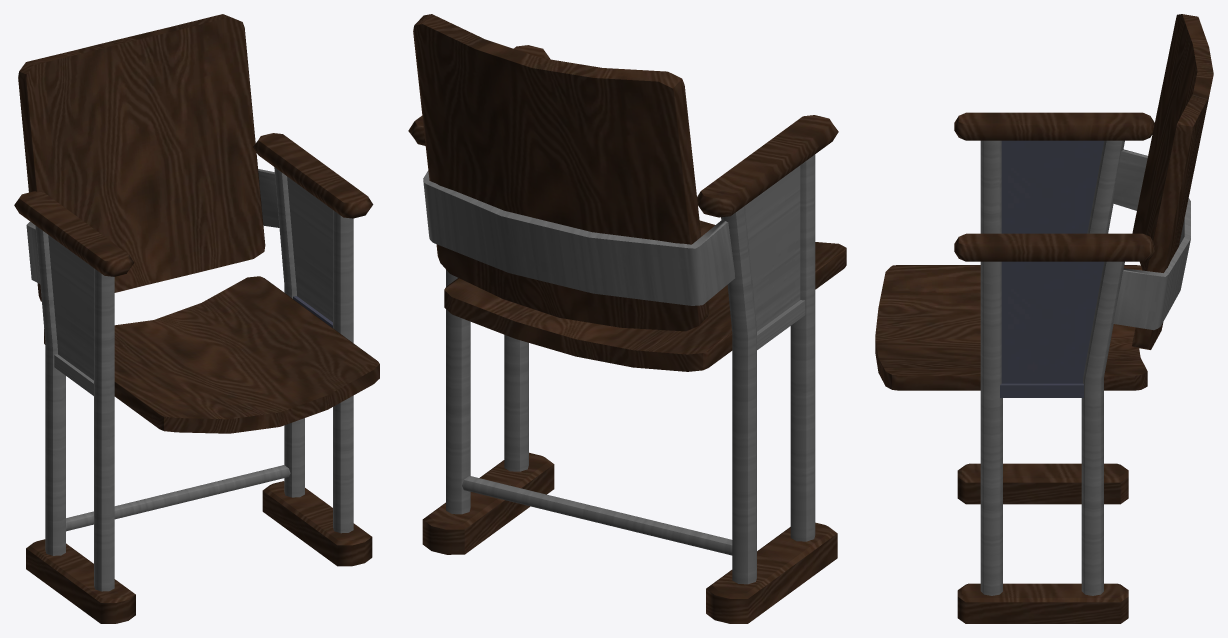
The model's file is pm-spectator-chair.glb.
3 renders of one model, left to right at view 1: azimuth 30°, elevation 25°; view 2: azimuth 150°, elevation 25°; view 3: azimuth 270°, elevation 25°, orthographic. The views are drawn at different scales.
Parts seen in each view (by area): view 1: Spectator_Chair; view 2: Spectator_Chair; view 3: Spectator_Chair.
Boxes of the visible parts, left/top/right/bottom form: Spectator_Chair: left=14, top=14, right=379, bottom=623; Spectator_Chair: left=408, top=14, right=846, bottom=623; Spectator_Chair: left=875, top=14, right=1213, bottom=623.
Size of the model in its own units: 0.709 by 1.18 by 0.7379.
Materials: 3 (3 with a texture image).
